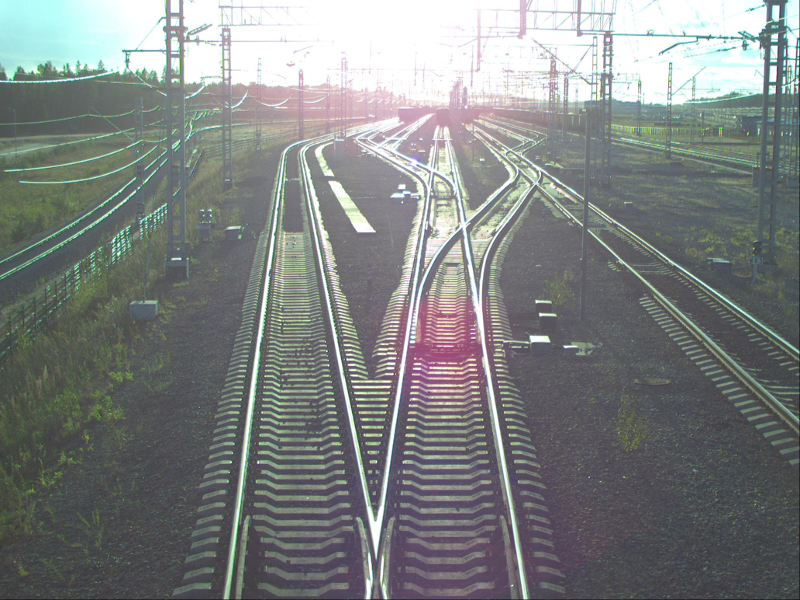left: (406, 223, 489, 346)
right: (426, 168, 461, 199)
